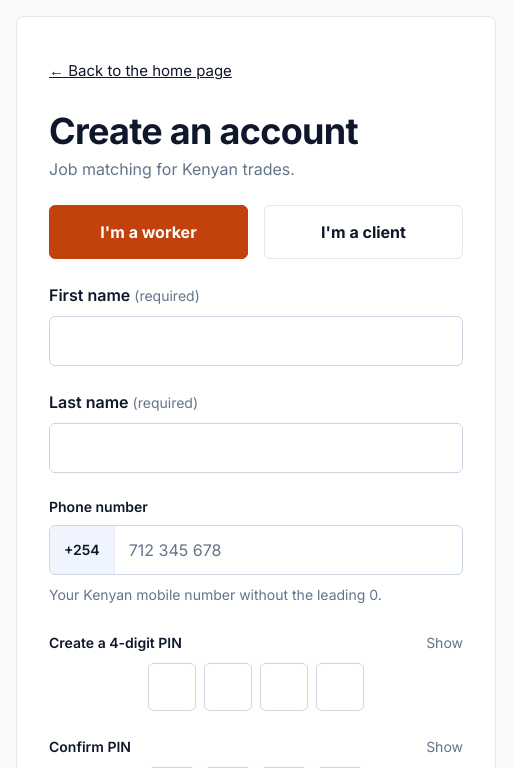
Test: a client signing up › is not asked for a name or an agreement
The image size is (513, 768).
Click the radio button labelled "I'm a client".
click(364, 232)  # box [264,205,463,259]
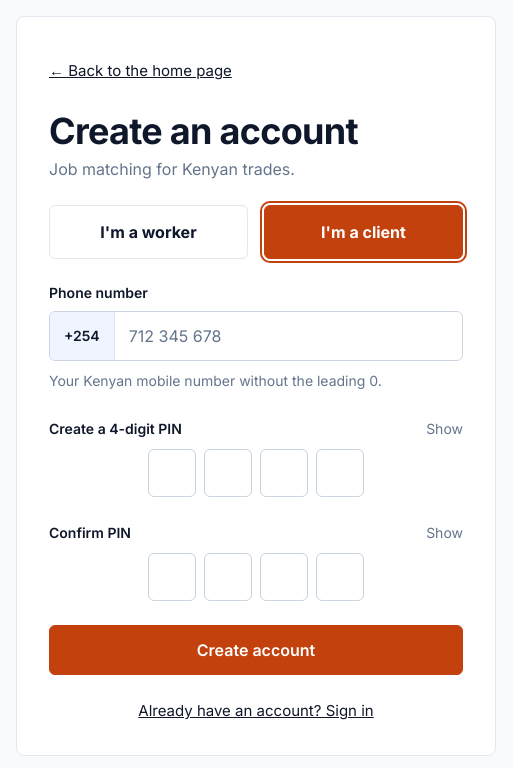
Check: the label labelled "First name" is gone
Check: the label labelled "Last name" is gone
